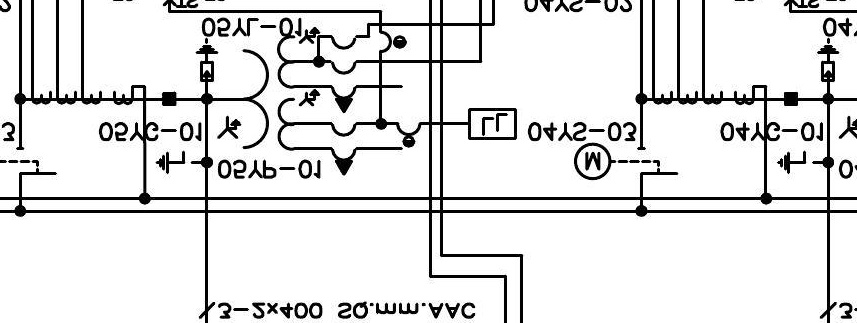115_1way_ds_w_motor: (572, 141, 679, 180)
115_gs: (154, 150, 195, 175), (775, 150, 816, 175)
115_la: (194, 37, 219, 82), (816, 37, 840, 82)
115_vt_3p: (216, 26, 357, 177)
LL: (467, 107, 517, 141)
